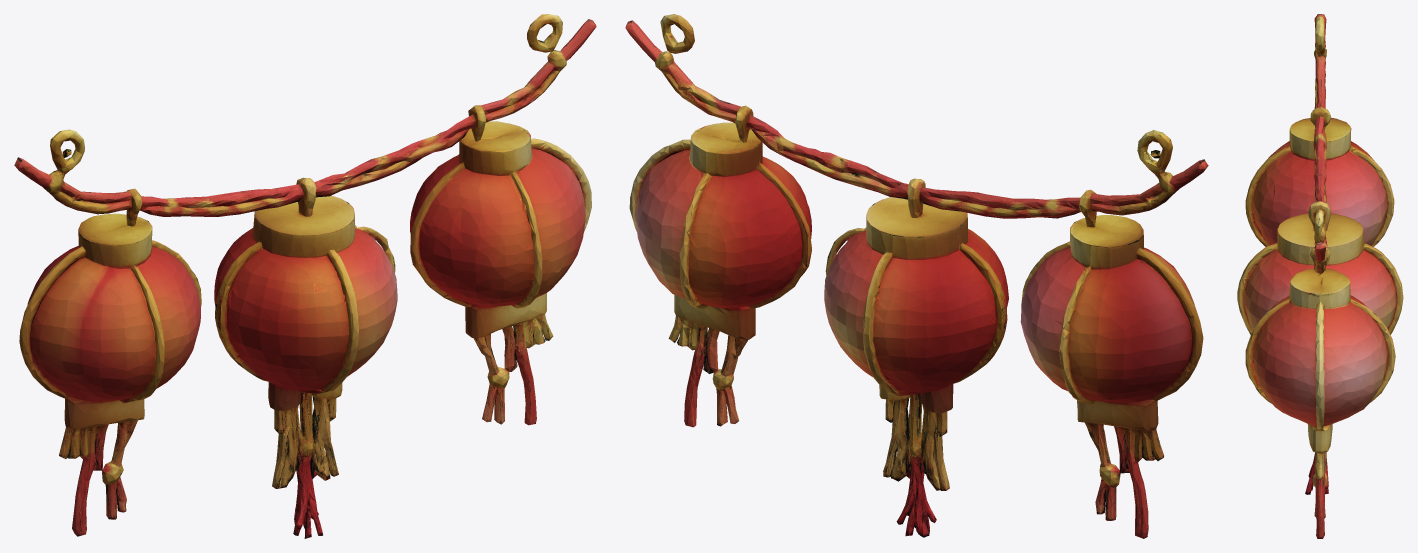
The model's file is s3_deco_lantern_red.glb.
3 views of the same model, side by side, from view 1: azimuth 30°, elevation 25°; view 2: azimuth 150°, elevation 25°; view 3: azimuth 270°, elevation 25° (orthographic). The views are drawn at different scales.
Visible parts, largest first — view 1: world; view 2: world; view 3: world.
Part boxes in pixels (x1,y1,x2,y2): world: (14,14,596,538); world: (625,14,1208,538); world: (1237,14,1403,538).
Size of the model in its own units: 1 by 0.762 by 0.3029.
1 material, 1 textured.
